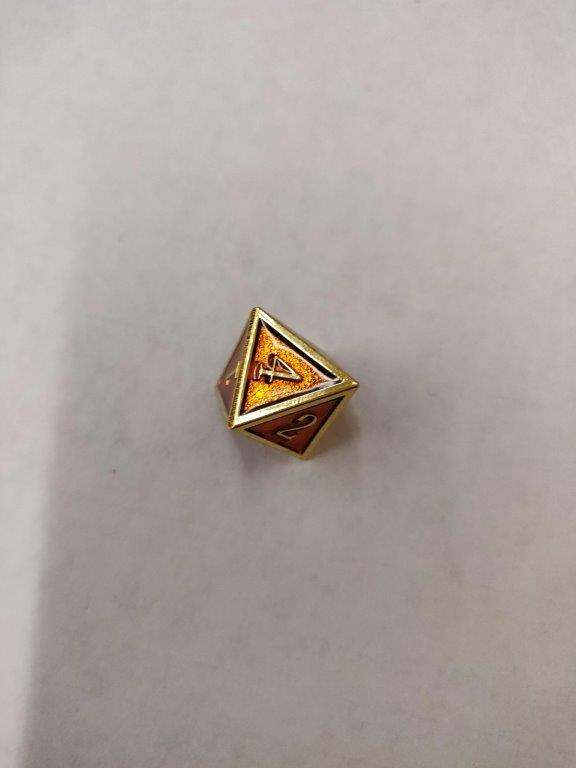d8-4: (215, 306, 358, 465)
